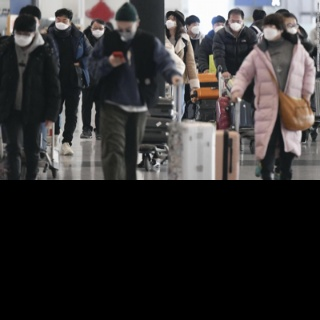with_mask: (13, 29, 32, 47), (117, 24, 136, 42), (260, 24, 278, 40), (285, 21, 300, 36), (54, 16, 69, 30), (91, 25, 105, 38), (165, 16, 178, 29), (229, 17, 241, 31), (213, 21, 225, 32), (190, 21, 200, 34)
